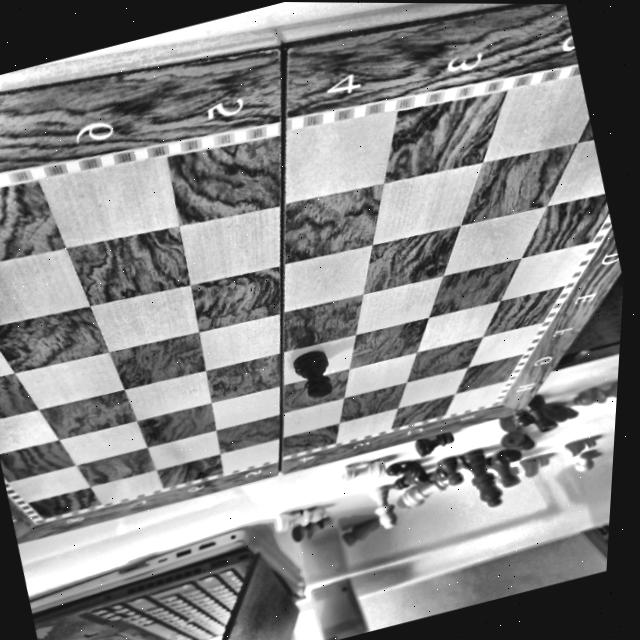black-pawn: (284, 339, 346, 407)
